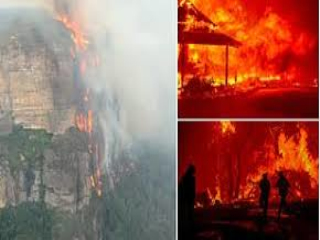fire: (182, 3, 309, 93), (258, 131, 319, 176), (57, 10, 97, 59), (72, 93, 102, 138), (82, 162, 105, 191), (215, 120, 241, 136)
smoke: (103, 9, 173, 164)
